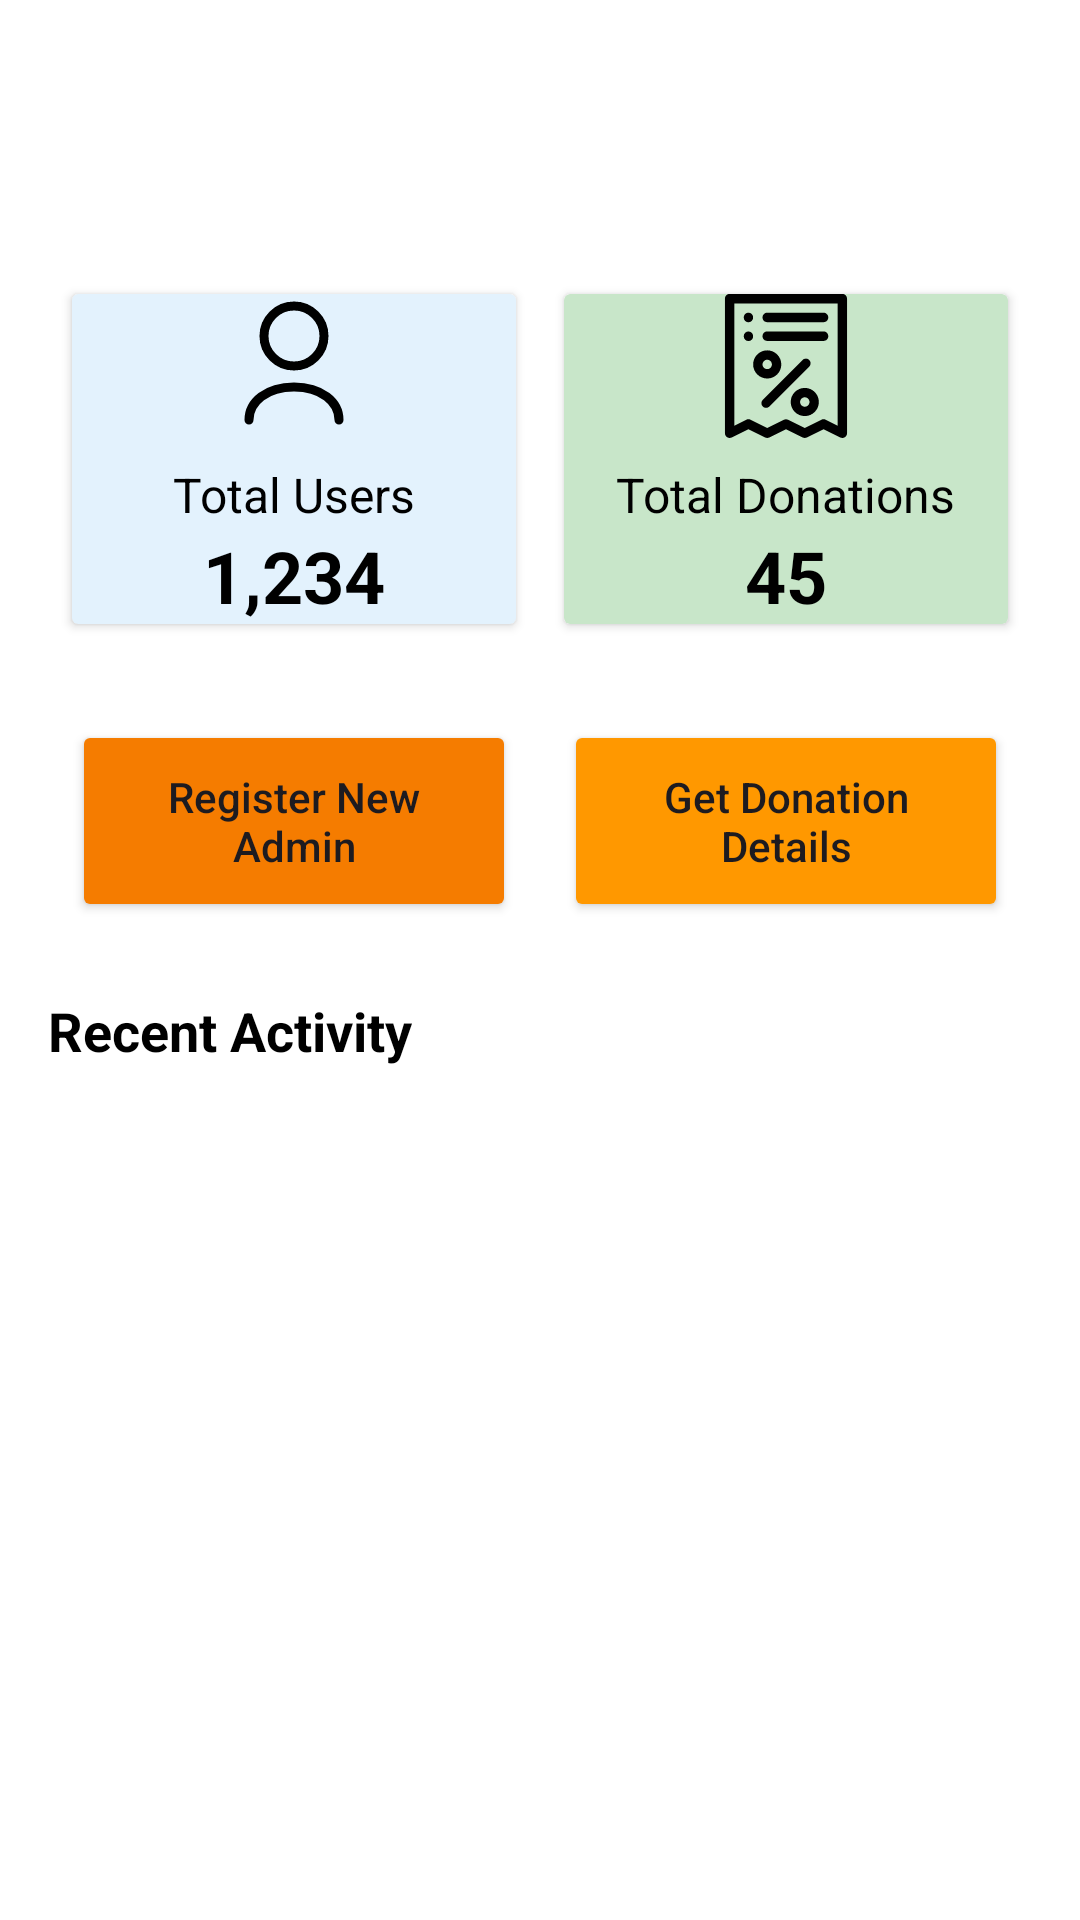

Named icons in this screenshot (1080w x 1920h) and their bounding boxes, (x1, y1, x2, y2):
bill receipt: (725, 294, 847, 438)
profile: (244, 301, 344, 425)
